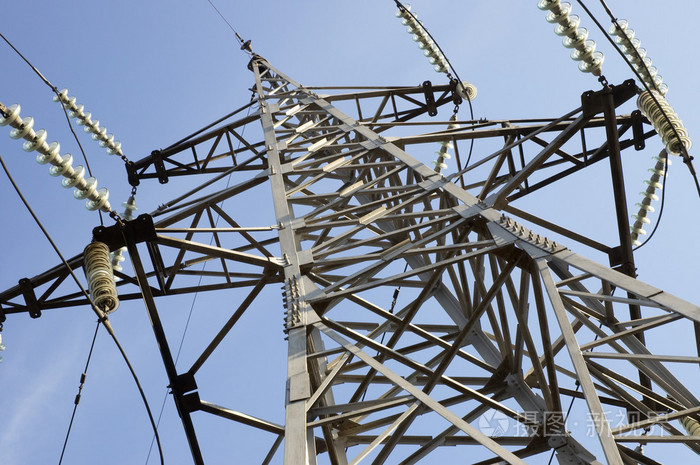insulator: (1, 104, 106, 208), (608, 19, 669, 95), (543, 1, 605, 74), (52, 85, 115, 151), (395, 8, 449, 75), (630, 158, 669, 244), (636, 89, 688, 152), (83, 243, 119, 316), (433, 118, 458, 168)
